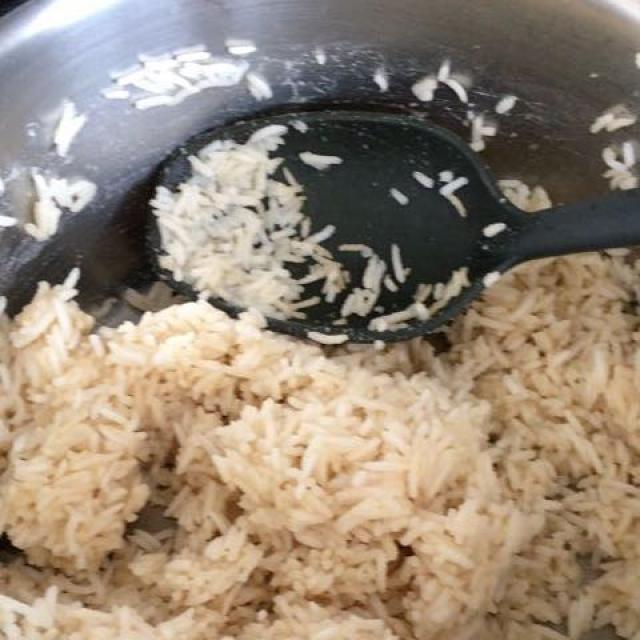rice: (13, 259, 635, 635)
